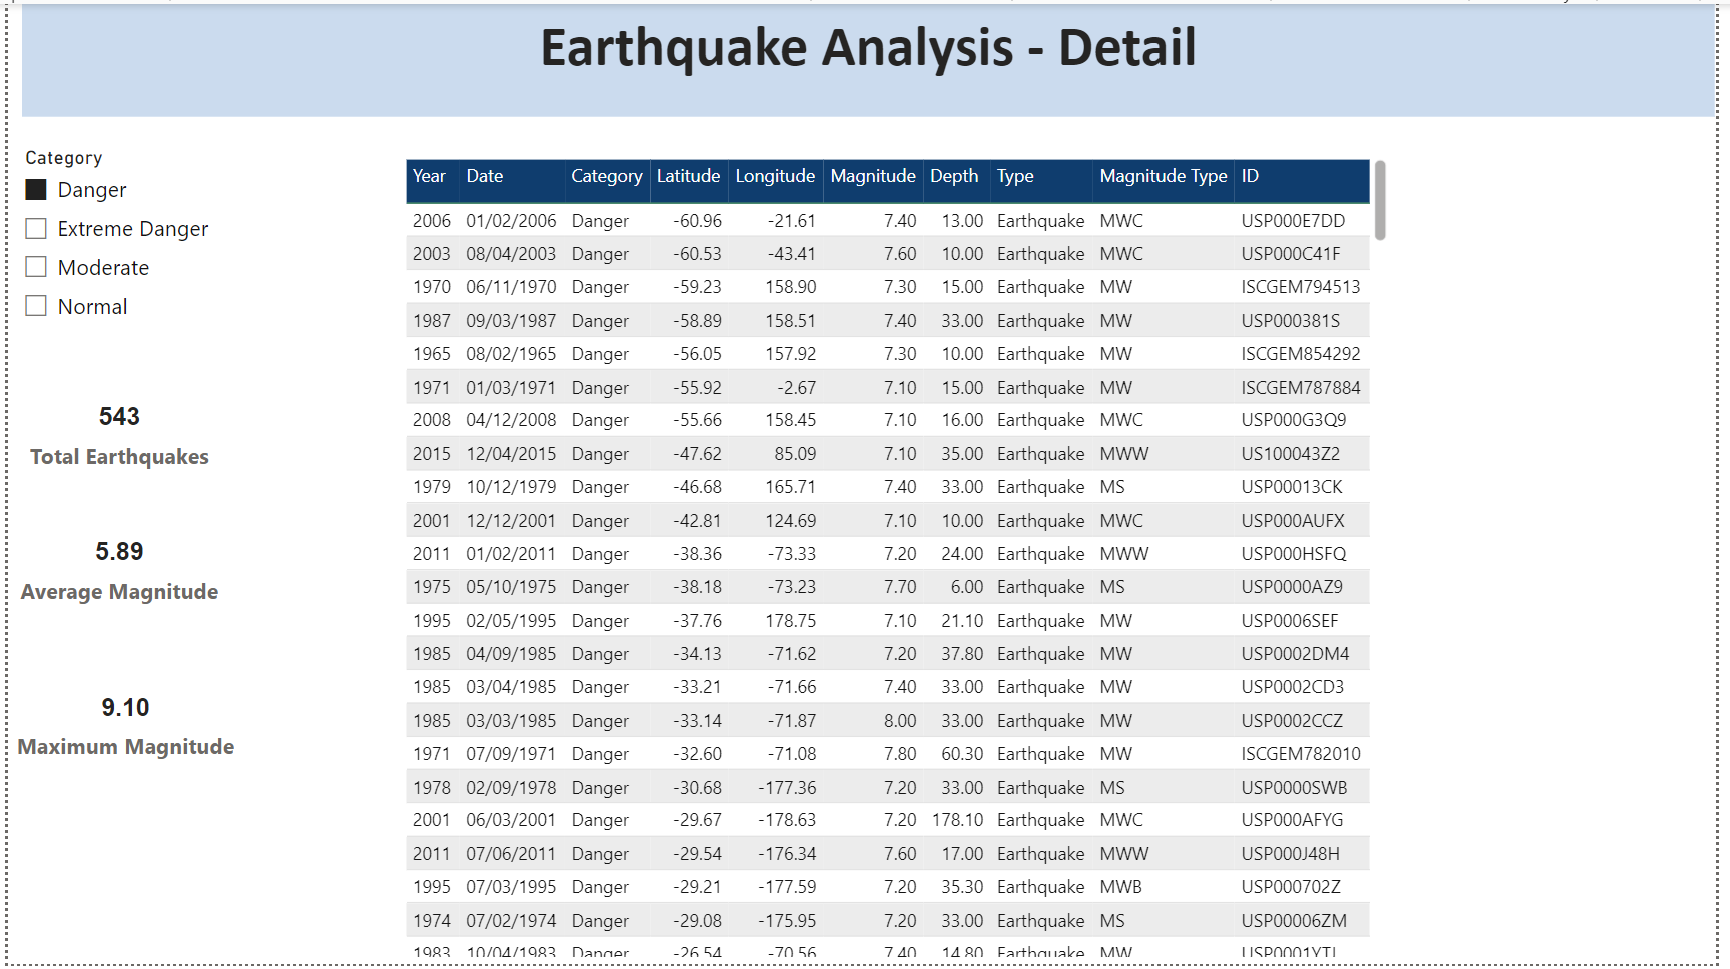

This screenshot's page, from the dashboard's own definition file:
{"tool":"powerbi","page":{"name":"Earthquake Detail","canvas":[1280,720],"ordinal":1},"visuals":[{"type":"textbox","box":[10.4,0,1269.4,84.7],"z":0},{"type":"card","fields":{"Values":["quakes.Count of Earthquake"]},"box":[0,282.3,166.7,77.5],"z":1000},{"type":"card","fields":{"Values":["quake_freq.Average mag"]},"box":[0,383.4,166.7,77.5],"z":2000},{"type":"card","fields":{"Values":["quake_freq.Maximum mag"]},"box":[0,500.2,175.9,77.5],"z":3000},{"type":"slicer","fields":{"Values":["quakes.Category"]},"box":[0,101.1,175.9,149.7],"z":4000},{"type":"tableEx","fields":{"Values":["quakes.Year","quakes.Date","quakes.Category","quakes.Latitude","quakes.Longitude","quakes.Magnitude","quakes.Depth","quakes.Type","quakes.Magnitude Type","quakes.ID"]},"box":[292.8,111.6,745.7,607.9],"z":5000}]}

Visuals, with their boxes in screenshot pixels (x1, y1, x2, y2), scaled from the page's 1280x720 canvas onto the 1730x969 screenshot:
textbox: <box>14,0,1729,114</box>
card - quakes.Count of Earthquake: <box>0,380,225,484</box>
card - quake_freq.Average mag: <box>0,516,225,620</box>
card - quake_freq.Maximum mag: <box>0,673,238,777</box>
slicer - quakes.Category: <box>0,136,238,338</box>
tableEx - quakes.Year x quakes.Date: <box>396,150,1404,968</box>
